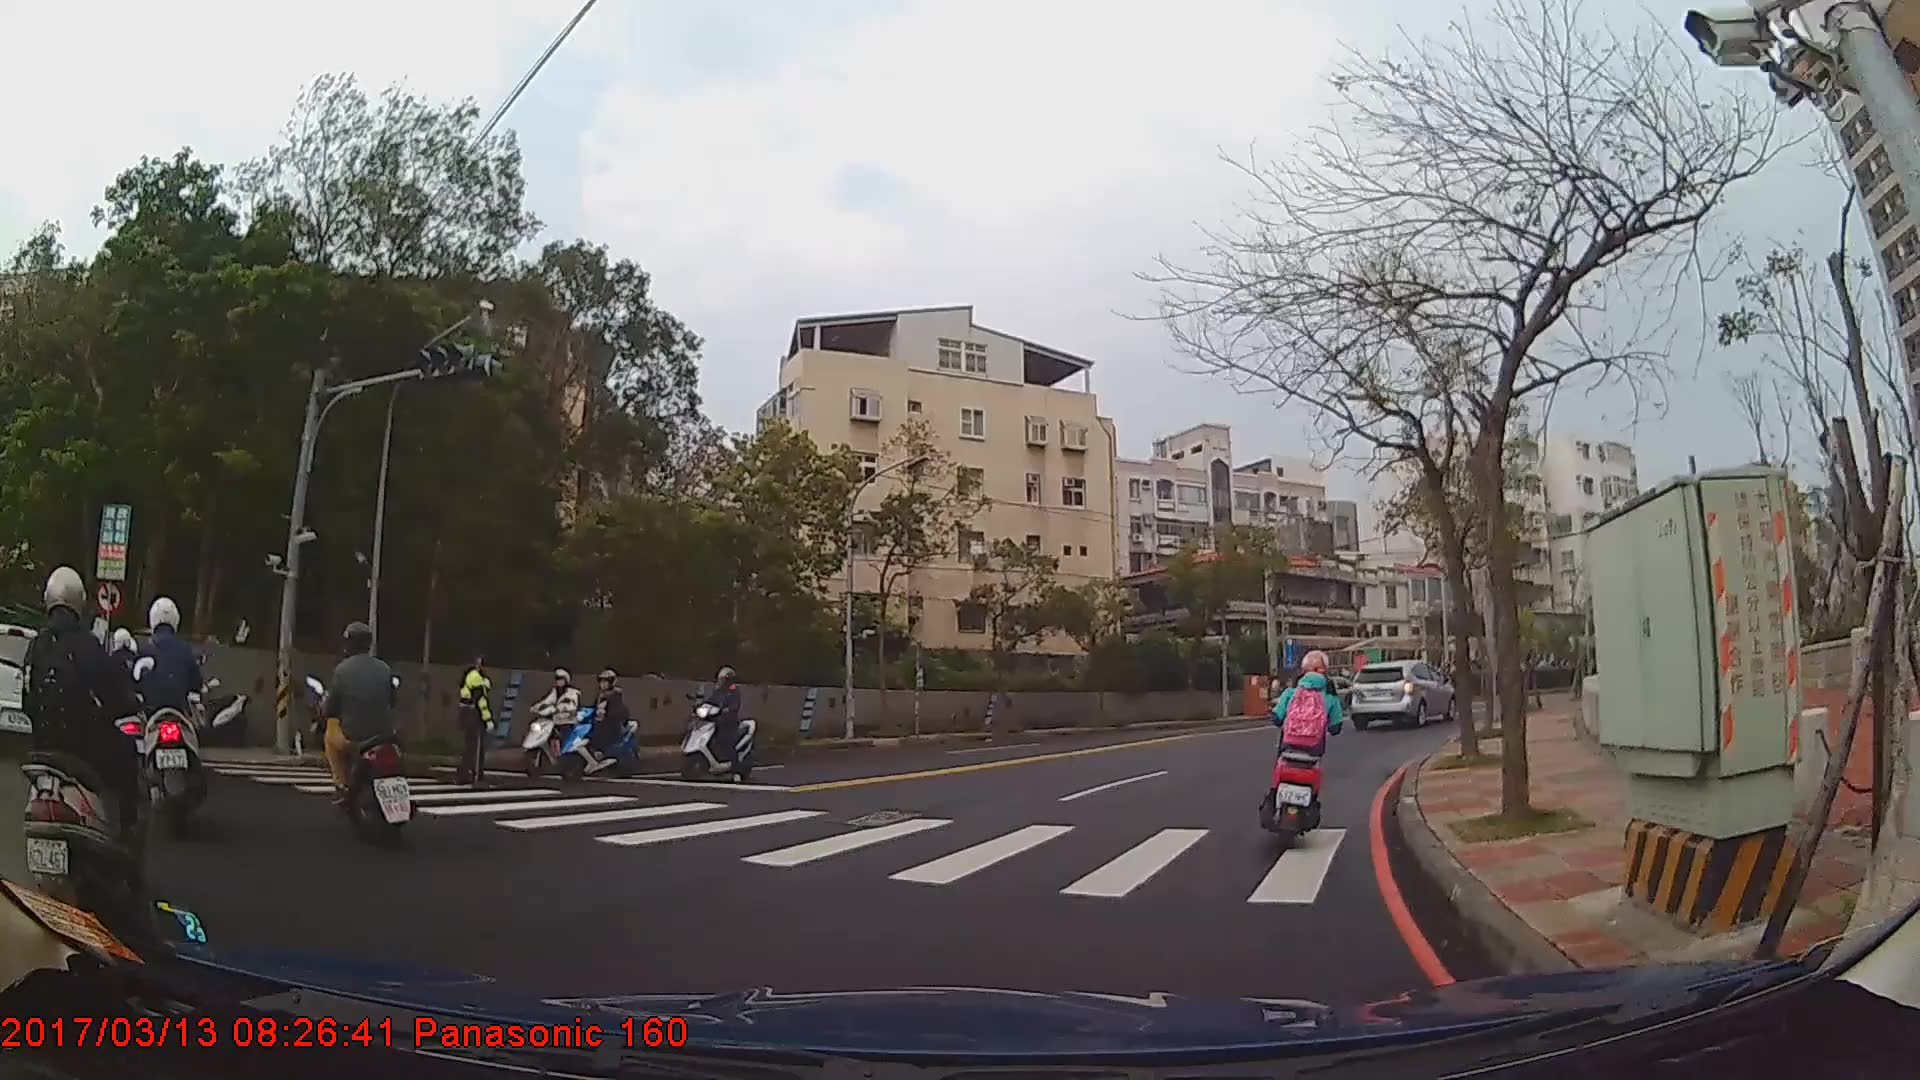pedestrian: (452, 650, 496, 792)
rider: (20, 565, 155, 934), (308, 622, 416, 849), (125, 597, 207, 838), (1265, 647, 1346, 842), (679, 671, 758, 785), (561, 670, 635, 782), (522, 672, 593, 778)
vehicle: (1347, 658, 1456, 728)
